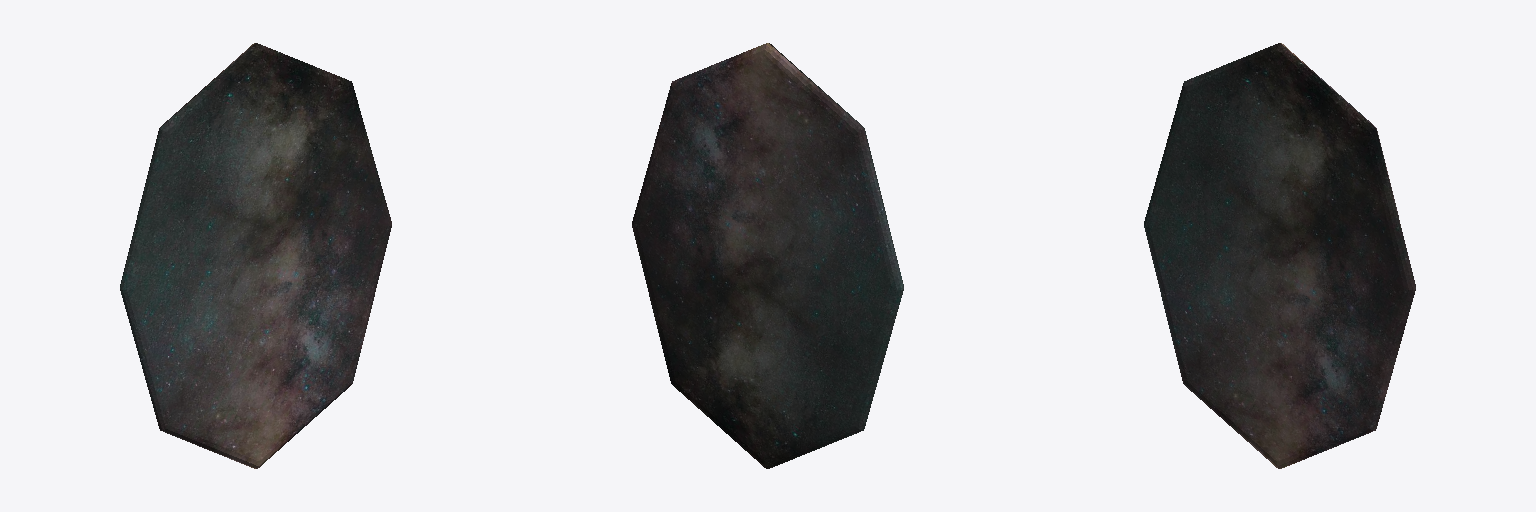
3 renders of one model, left to right at view 1: azimuth 30°, elevation 25°; view 2: azimuth 150°, elevation 25°; view 3: azimuth 330°, elevation 25°, orthographic.
Parts seen in each view (by area): view 1: Cylinder; view 2: Cylinder; view 3: Cylinder.
Part boxes in pixels (bbox=[...]): Cylinder: bbox=[120, 43, 391, 468]; Cylinder: bbox=[632, 43, 903, 468]; Cylinder: bbox=[1144, 43, 1415, 468].
Size of the model in its own units: 10 by 15 by 0.4.
1 materials, 1 textured.